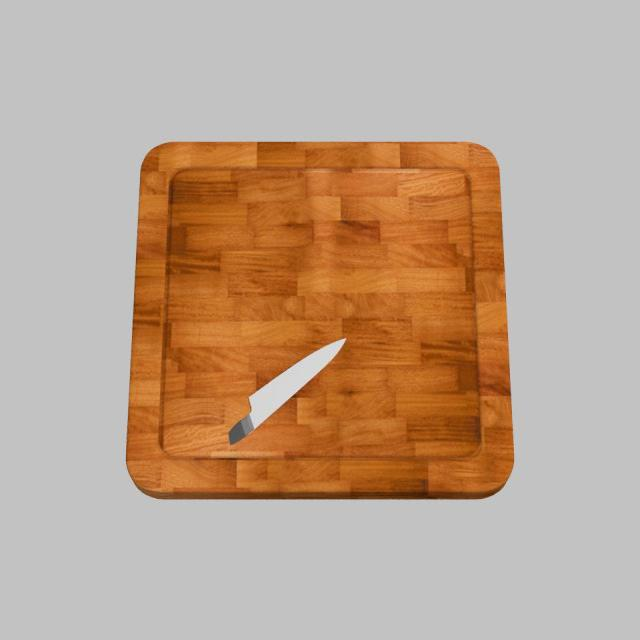knife: (175, 420, 247, 494)
